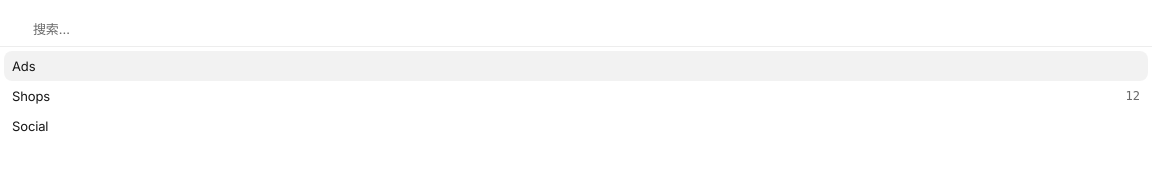
Test: Combobox › kit words come from the labels provider
In the dropdown named "Folder": (586, 29) [33,12,1140,46], type "游戏"
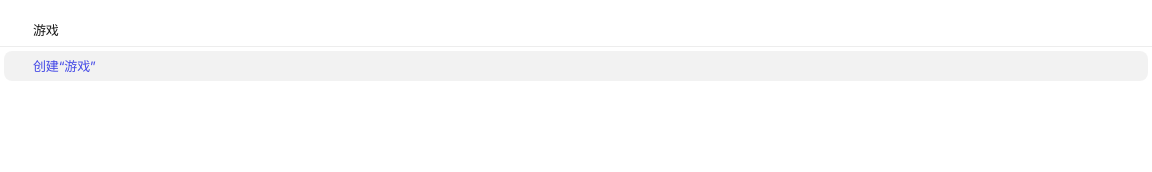
Expected: the option "创建“游戏”" is shown, [4,51,1148,81]
